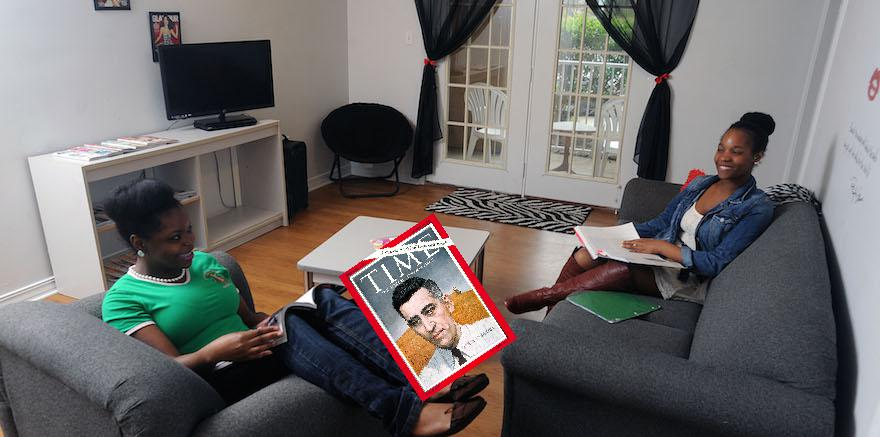times: (339, 215, 520, 410)
